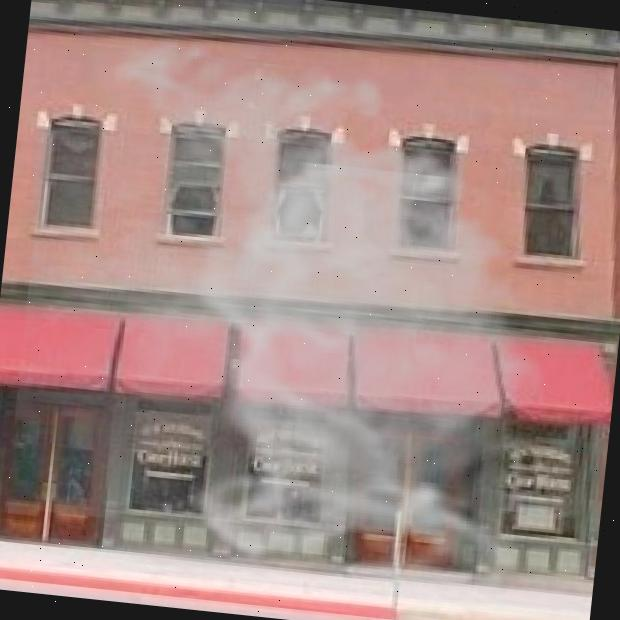smoke: (1, 9, 597, 598)
